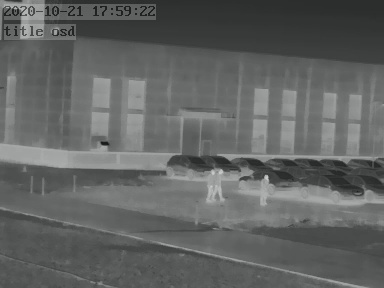person: (214, 168, 227, 202), (258, 174, 270, 205), (204, 169, 215, 200)
vehicle: (298, 172, 361, 203), (163, 153, 215, 177), (244, 170, 303, 190), (191, 153, 239, 174), (350, 173, 382, 200), (232, 154, 270, 171), (348, 155, 381, 170), (262, 156, 293, 170), (317, 156, 347, 170), (296, 156, 324, 169)
